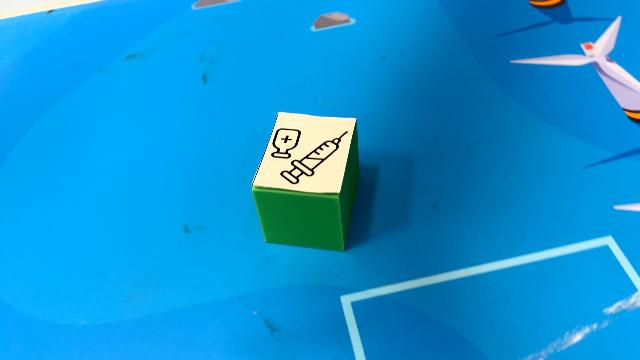syringe: (252, 112, 361, 252)
